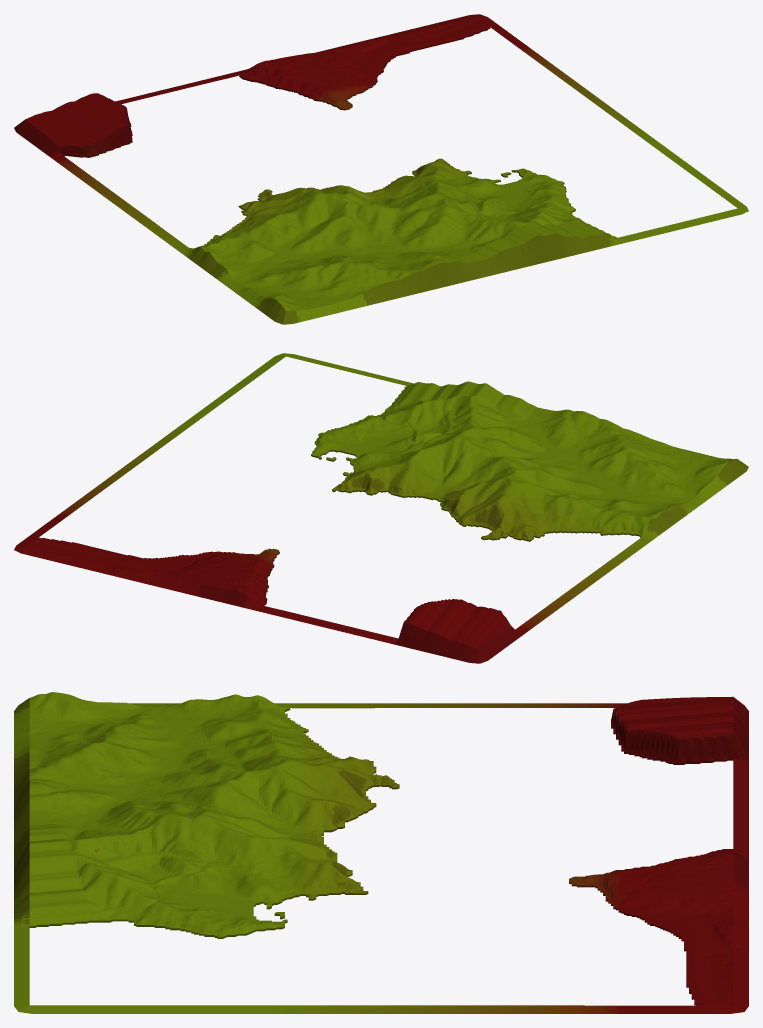
The model's file is gg_terrain.glb.
3 views of the same model, one above another, from view 1: azimuth 30°, elevation 25°; view 2: azimuth 150°, elevation 25°; view 3: azimuth 270°, elevation 25° (orthographic). The views are drawn at different scales.
Visible parts, largest first — view 1: terrain_grass, terrain_rock; view 2: terrain_grass, terrain_rock; view 3: terrain_grass, terrain_rock.
Boxes of the visible parts, x1,y1,x2,y2 form: terrain_grass: [25, 14, 748, 322]; terrain_rock: [14, 27, 616, 324]; terrain_grass: [14, 353, 736, 648]; terrain_rock: [197, 388, 748, 663]; terrain_grass: [14, 692, 748, 1013]; terrain_rock: [14, 697, 748, 1005].
Bounding box in the file's own units: 5640 × 301 × 5640.
